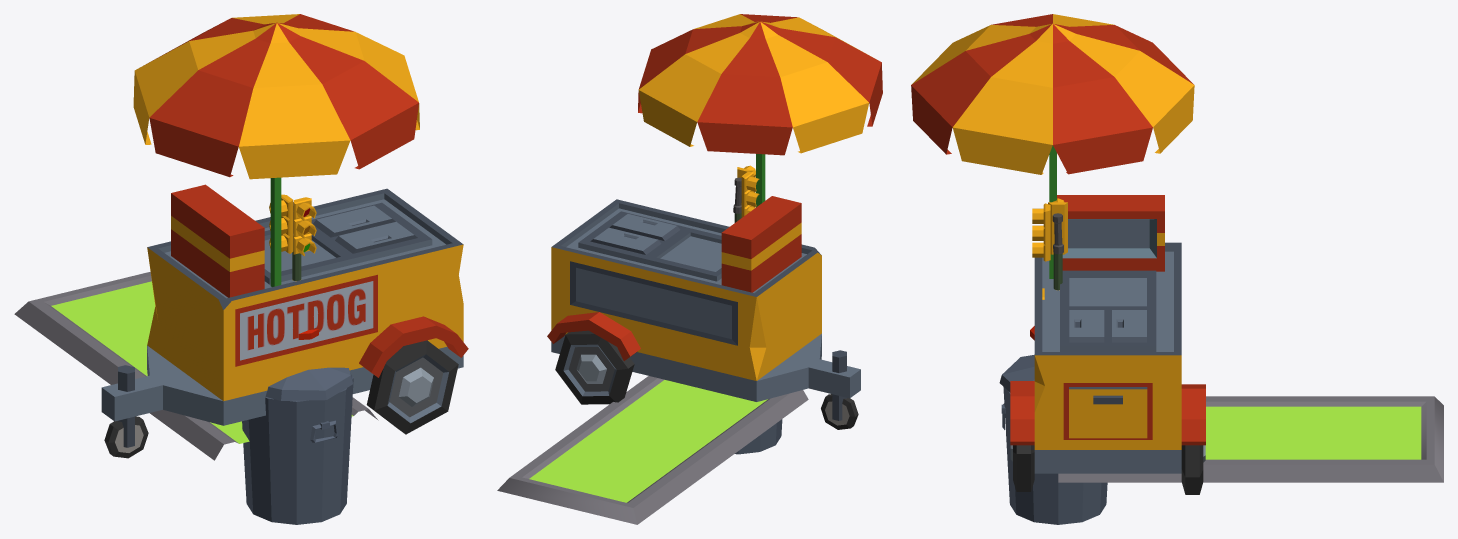
Rendered from Props (1).fbx.
3 renders of one model, left to right at view 1: azimuth 30°, elevation 25°; view 2: azimuth 150°, elevation 25°; view 3: azimuth 270°, elevation 25°, orthographic. The views are drawn at different scales.
Parts seen in each view (by area): view 1: SM_Prop_HotdogStand_01, SM_Prop_TrashCan_01, SM_Env_Street_Divider_02, SM_Prop_LightPole_01; view 2: SM_Prop_HotdogStand_01, SM_Env_Street_Divider_02, SM_Prop_LightPole_01, SM_Prop_TrashCan_01; view 3: SM_Prop_HotdogStand_01, SM_Env_Street_Divider_02, SM_Prop_TrashCan_01, SM_Prop_LightPole_01.
Boxes of the visible parts, box(x1,y1,x2,y2) form: SM_Prop_HotdogStand_01: box(101, 14, 468, 458); SM_Prop_TrashCan_01: box(242, 367, 353, 524); SM_Env_Street_Divider_02: box(14, 271, 378, 460); SM_Prop_LightPole_01: box(269, 194, 316, 280); SM_Prop_HotdogStand_01: box(547, 14, 882, 429); SM_Env_Street_Divider_02: box(497, 376, 808, 524); SM_Prop_LightPole_01: box(733, 165, 759, 222); SM_Prop_TrashCan_01: box(735, 419, 782, 454); SM_Prop_HotdogStand_01: box(911, 14, 1205, 494); SM_Env_Street_Divider_02: box(1058, 396, 1443, 482); SM_Prop_TrashCan_01: box(999, 354, 1107, 524); SM_Prop_LightPole_01: box(1032, 198, 1067, 299).
Size of the model in its own units: 1.43 by 2.03 by 2.09.
